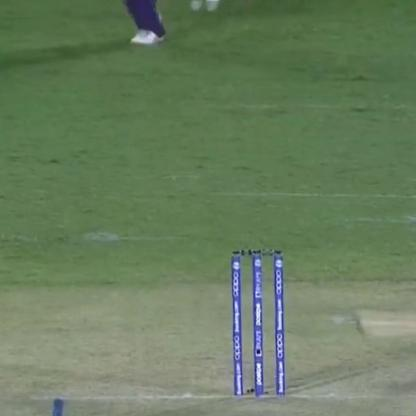bat: (345, 299, 415, 340)
